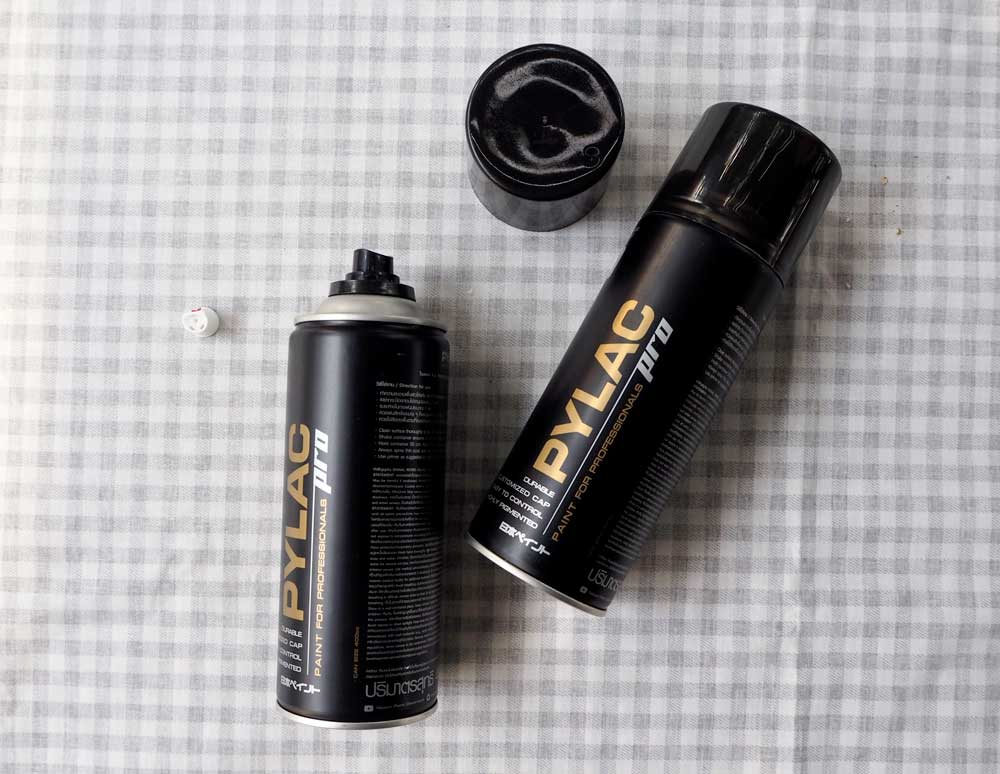Aerosol_cans: (461, 96, 843, 623), (267, 244, 454, 731)
